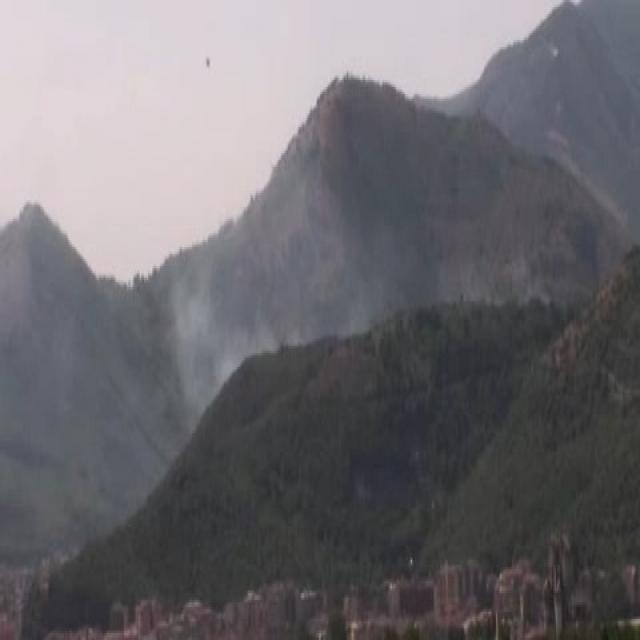smoke: (161, 225, 268, 403)
